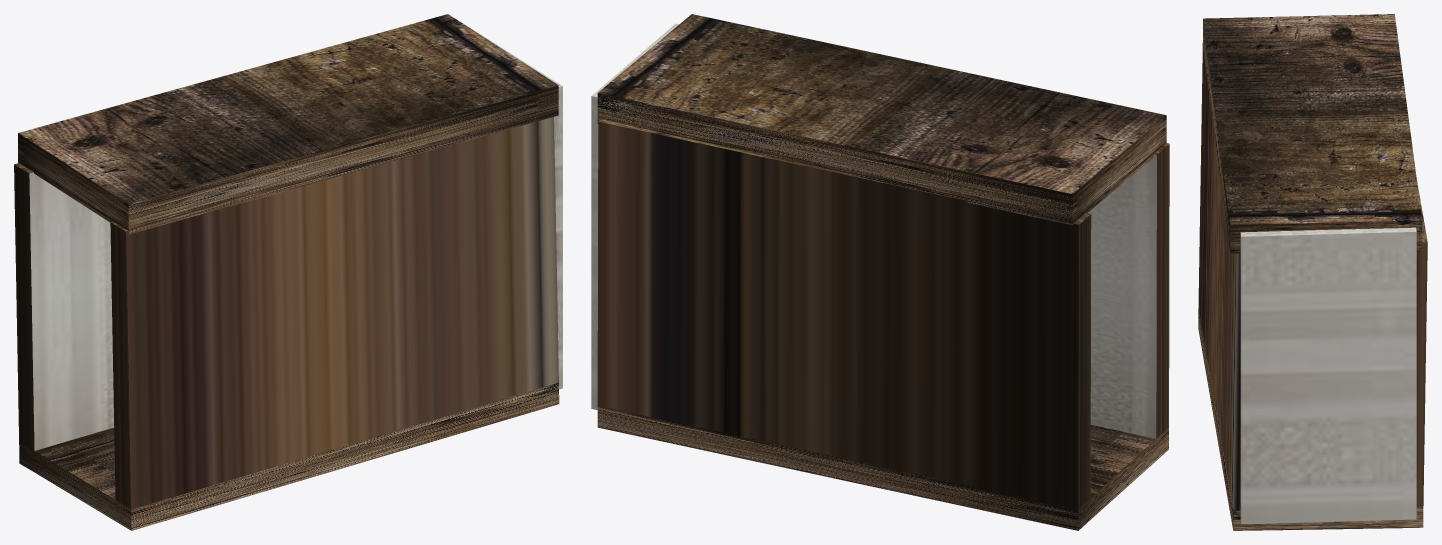
File: Pasillo.fbx
The picture shows the model from 3 angles, left to right: view 1: azimuth 30°, elevation 25°; view 2: azimuth 150°, elevation 25°; view 3: azimuth 270°, elevation 25°; orthographic projection. The views are drawn at different scales.
Visible parts, largest first — view 1: Cube.001, Cube.002, Cube.003; view 2: Cube.001, Cube.002, Cube.003; view 3: Cube.003, Cube.002, Cube.001.
Part boxes in pixels (x1,y1,x2,y2): Cube.001: (14, 117, 559, 530); Cube.002: (18, 14, 558, 234); Cube.003: (460, 21, 562, 389); Cube.001: (597, 119, 1169, 530); Cube.002: (597, 14, 1166, 225); Cube.003: (591, 23, 678, 409); Cube.003: (1240, 227, 1416, 524); Cube.002: (1203, 14, 1422, 253); Cube.001: (1198, 43, 1427, 530).
Size of the model in its own units: 1055 by 703 by 469.
4 materials, 4 textured.
